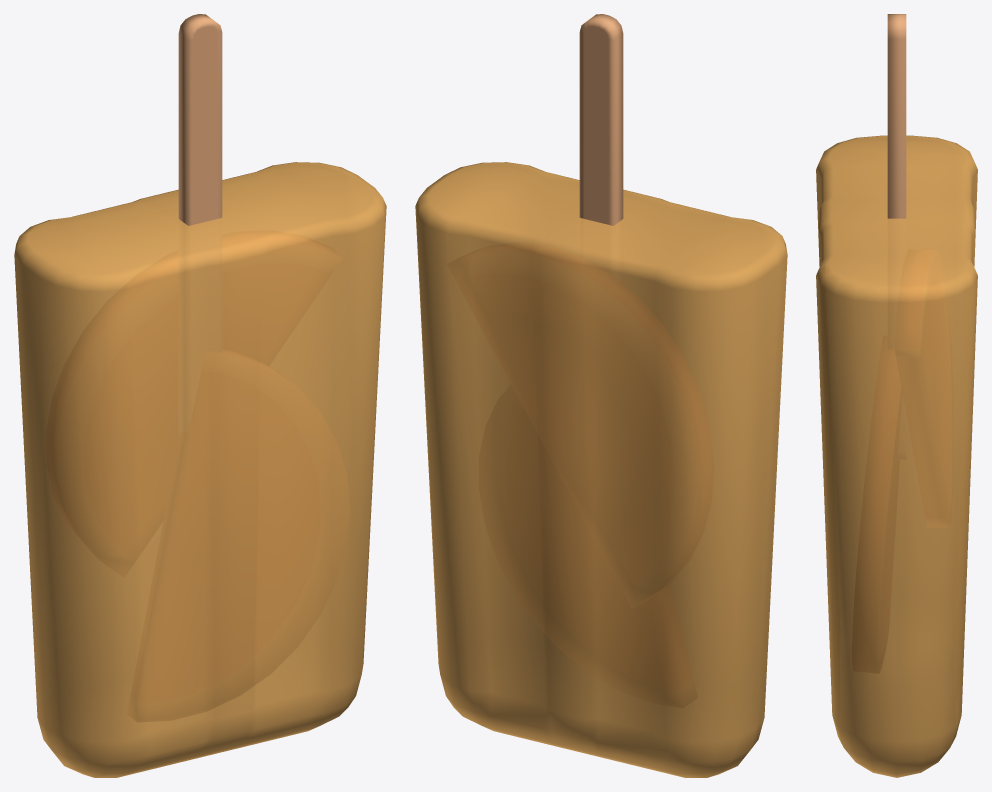
The model's file is popsicles_orange.fbx.
3 views of the same model, side by side, from view 1: azimuth 30°, elevation 25°; view 2: azimuth 150°, elevation 25°; view 3: azimuth 270°, elevation 25° (orthographic). The views are drawn at different scales.
Parts seen in each view (by area): view 1: popsicles_orange; view 2: popsicles_orange; view 3: popsicles_orange.
Boxes of the visible parts, left/top/right/bottom form: popsicles_orange: left=14, top=14, right=386, bottom=777; popsicles_orange: left=415, top=14, right=787, bottom=777; popsicles_orange: left=816, top=14, right=977, bottom=777.
Size of the model in its own units: 200 by 413 by 85.34.
